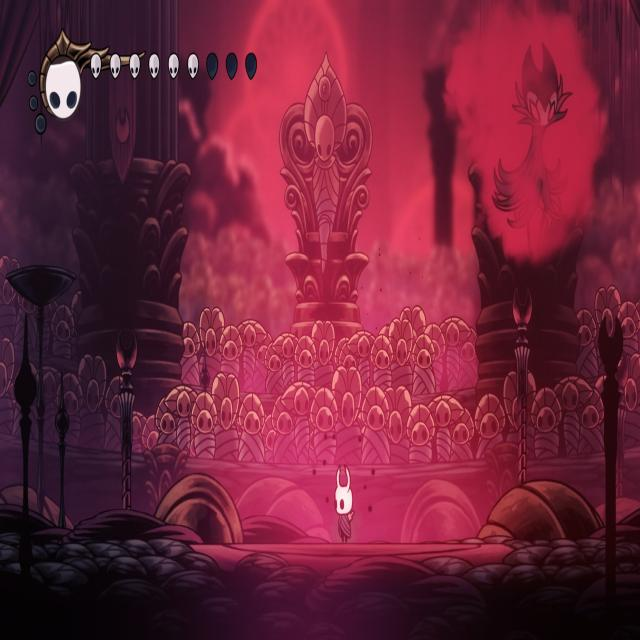Dive Dash: (486, 30, 574, 264)
Player: (332, 461, 357, 545)
